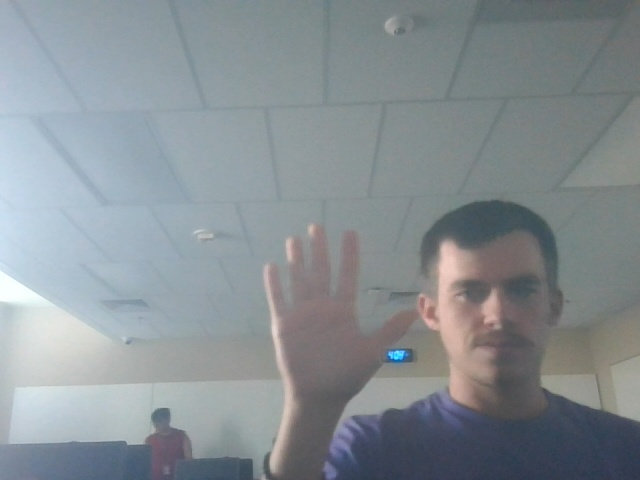hello: (248, 215, 423, 407)
